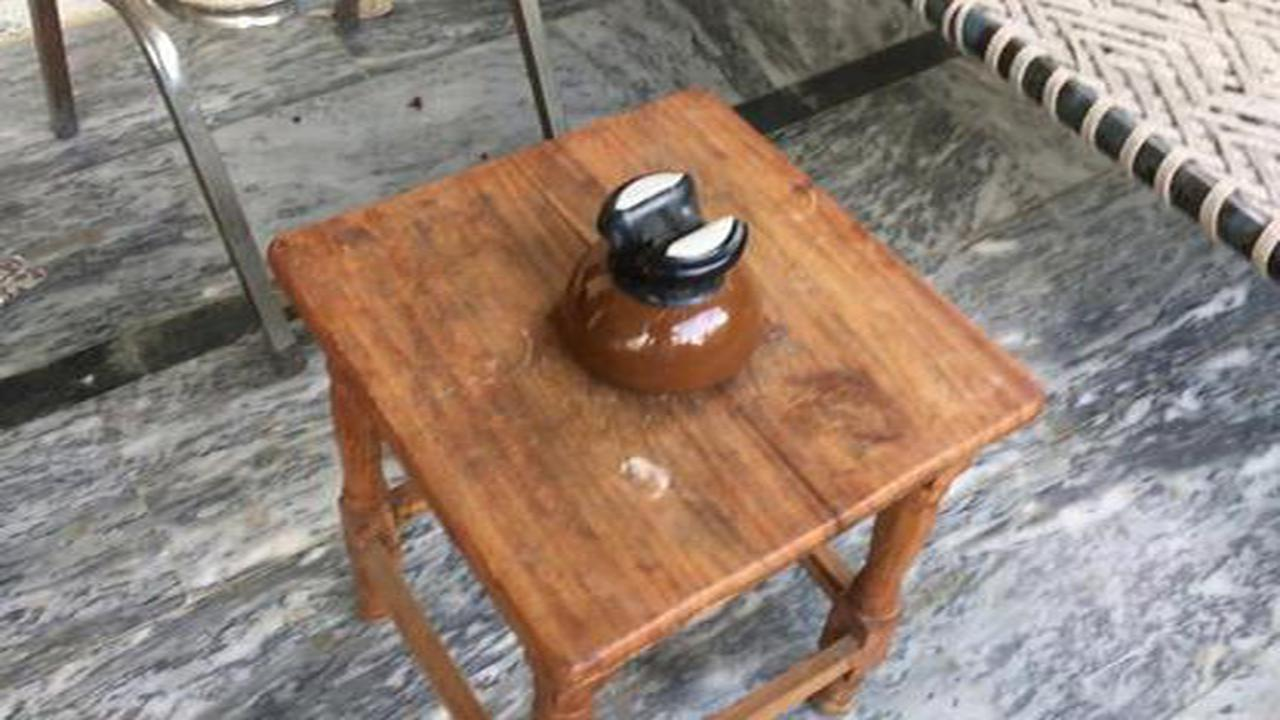insulator_pin: (536, 151, 785, 421)
